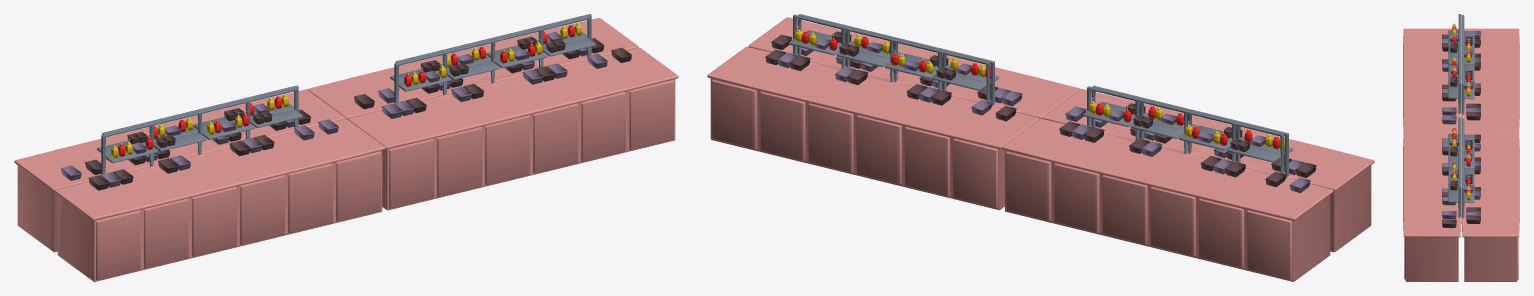
File: 4 Tezgah.fbx
3 renders of one model, left to right at view 1: azimuth 30°, elevation 25°; view 2: azimuth 150°, elevation 25°; view 3: azimuth 270°, elevation 25°, orthographic. The views are drawn at different scales.
Visible parts, largest first — view 1: Plane.017; view 2: Plane.017; view 3: Plane.017.
Boxes of the visible parts, x1,y1,x2,y2 form: Plane.017: [14, 14, 678, 281]; Plane.017: [707, 14, 1374, 281]; Plane.017: [1403, 14, 1519, 281].
Size of the model in its own units: 2240 by 396 by 534.
